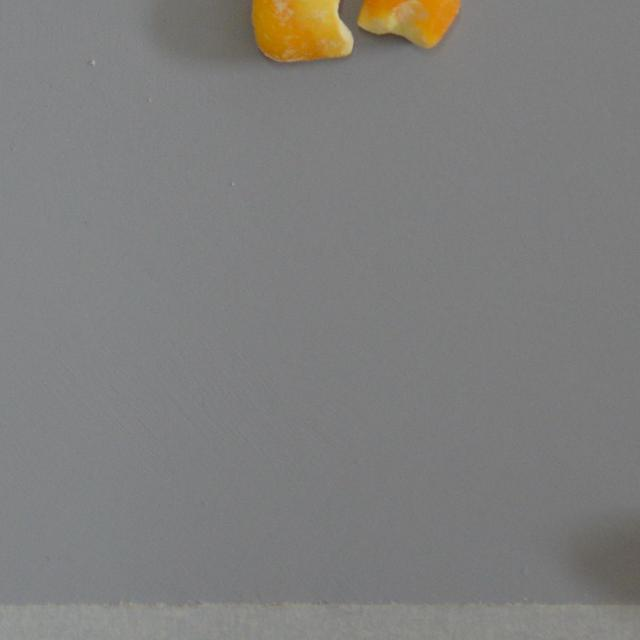no_desgerminado: (352, 0, 466, 51)
pelicula: (247, 0, 355, 68)
